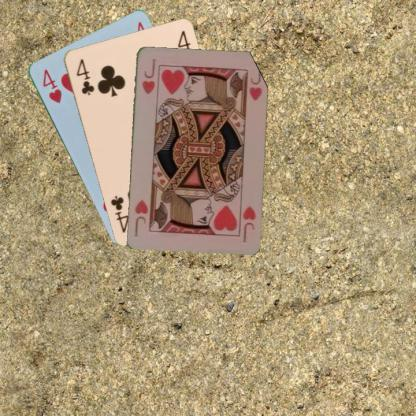4c: (73, 56, 95, 96)
4h: (39, 66, 63, 104)
Jh: (139, 56, 157, 95), (240, 203, 257, 244)
